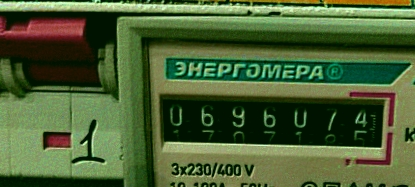0: (164, 101, 184, 127), (291, 103, 308, 129)
4: (352, 104, 369, 128)
5: (352, 128, 367, 146)
6: (197, 101, 217, 128), (259, 104, 277, 128)
7: (320, 105, 339, 131)
9: (227, 103, 247, 128)
screen: (145, 79, 400, 168)
